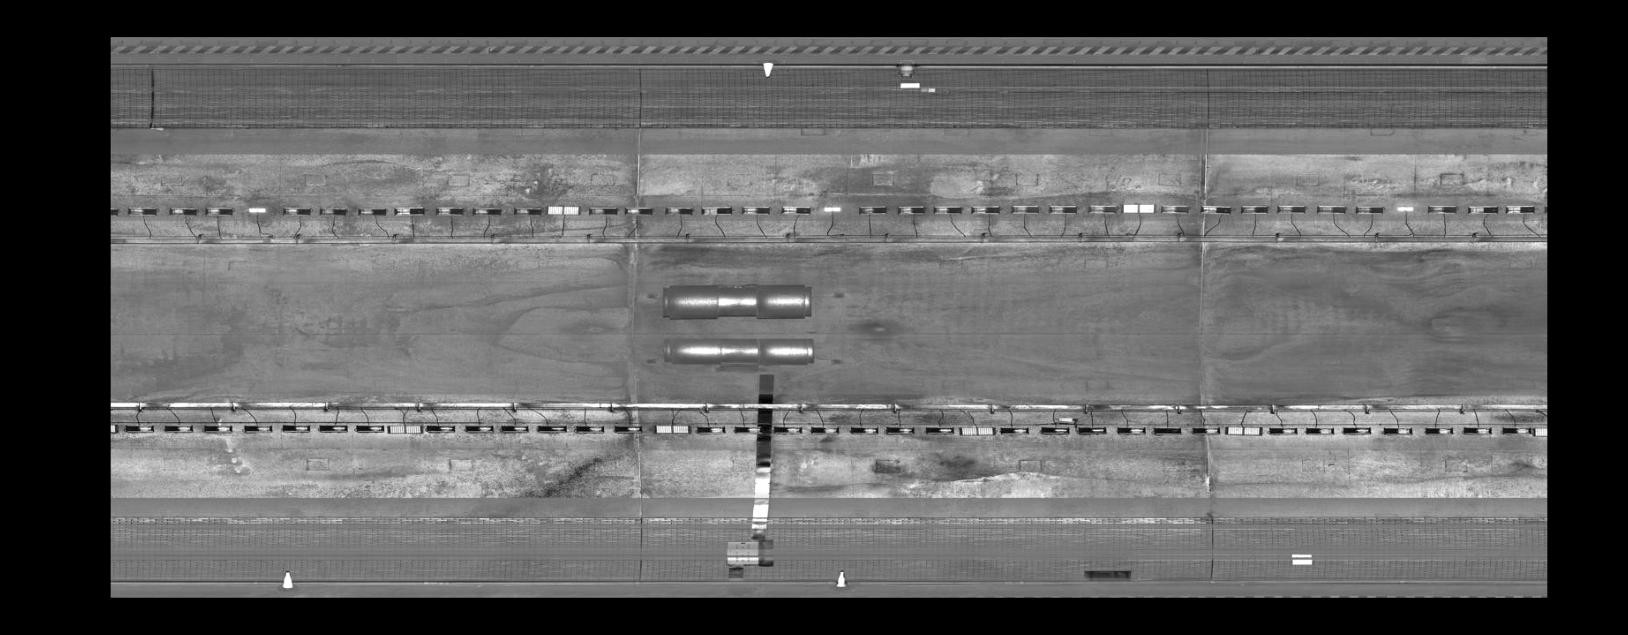light: (651, 422, 691, 436), (390, 204, 427, 219), (1084, 201, 1120, 216), (386, 422, 425, 436), (545, 204, 582, 218), (1223, 424, 1264, 437), (956, 424, 996, 437), (698, 204, 735, 217), (355, 205, 389, 219), (585, 204, 619, 218), (881, 423, 916, 437), (921, 422, 955, 436), (967, 203, 1003, 216), (1198, 203, 1234, 216), (432, 204, 465, 218), (470, 204, 504, 218), (1075, 423, 1108, 437), (1121, 202, 1157, 215), (1464, 204, 1502, 216), (1314, 202, 1347, 216), (125, 204, 159, 217), (622, 204, 656, 217), (1044, 203, 1079, 216), (1275, 203, 1309, 216), (1189, 423, 1223, 436), (1459, 424, 1496, 436), (203, 204, 235, 218), (1302, 425, 1338, 437), (1379, 425, 1415, 437), (511, 205, 544, 218), (1009, 203, 1042, 216), (731, 423, 764, 436), (770, 424, 804, 437), (1150, 424, 1184, 437), (1338, 424, 1374, 436), (1422, 425, 1458, 437), (316, 205, 348, 218), (662, 204, 695, 217), (895, 204, 927, 217), (279, 205, 314, 217), (738, 204, 772, 216), (1503, 204, 1538, 216), (121, 422, 156, 434), (240, 422, 274, 434), (316, 422, 350, 434), (612, 423, 646, 435), (997, 425, 1031, 437), (166, 205, 199, 217), (930, 204, 964, 216), (1159, 203, 1192, 215), (1237, 203, 1270, 215), (280, 422, 314, 434), (353, 422, 386, 434), (463, 422, 496, 434), (808, 424, 841, 436), (847, 424, 880, 436), (1037, 425, 1070, 437), (1353, 204, 1385, 216), (694, 424, 726, 436), (1424, 204, 1460, 215), (160, 423, 195, 434), (534, 423, 569, 434), (571, 423, 606, 434), (1498, 425, 1534, 436), (779, 204, 813, 215), (856, 204, 890, 215), (200, 423, 235, 434), (1114, 425, 1148, 436), (423, 423, 456, 434), (1266, 426, 1299, 437), (498, 423, 530, 433), (243, 204, 269, 215), (1392, 204, 1418, 213), (821, 204, 844, 214), (111, 204, 121, 218), (1534, 426, 1547, 437), (111, 420, 119, 436)
